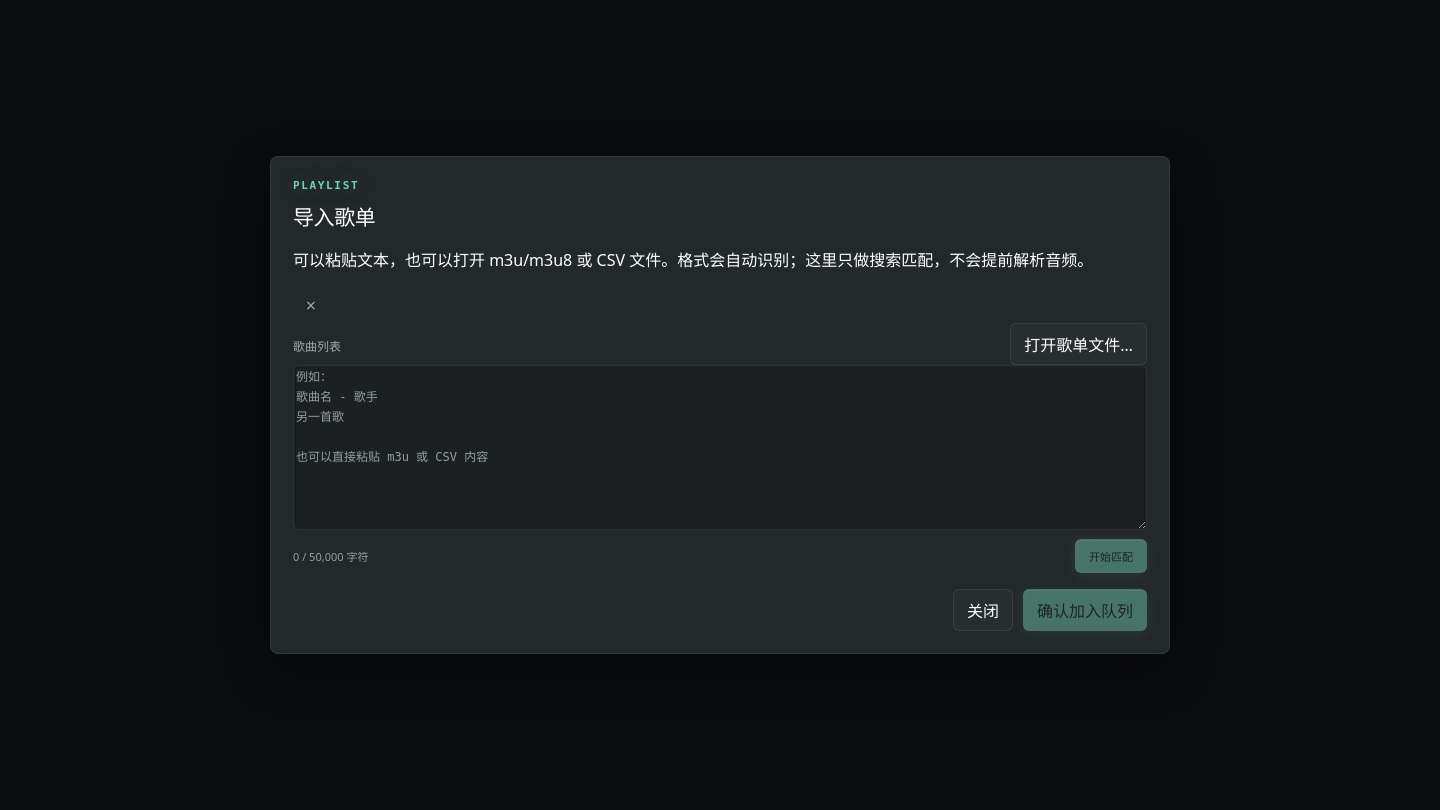
Test: TextPlaylistImportDialog › loads a picked file and shows its name
Click the button "打开歌单文件…" at (1079, 344), box [1010, 323, 1147, 365]
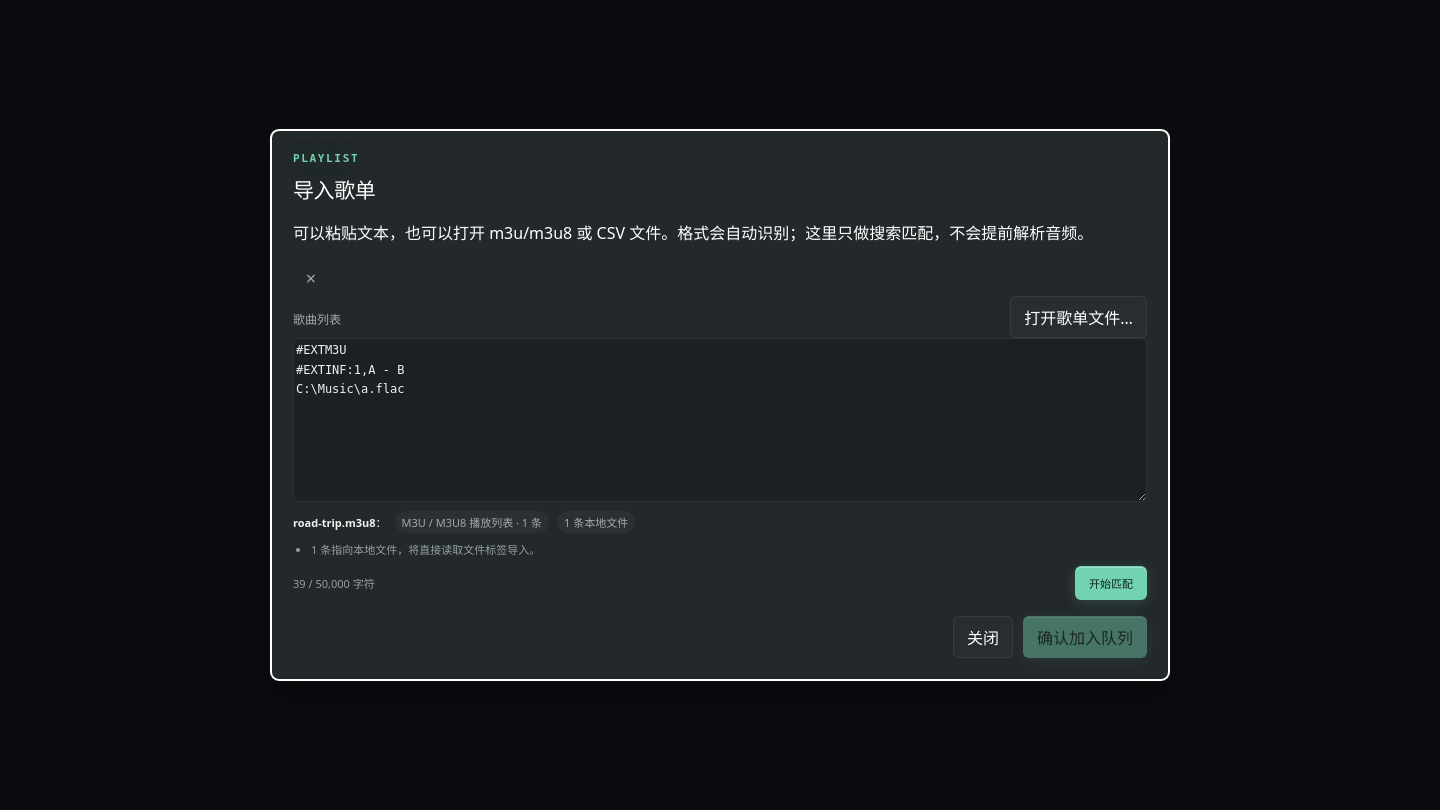
Expected: the element named "已识别的歌单格式" shows "road-trip.m3u8", [293, 515, 387, 530]
